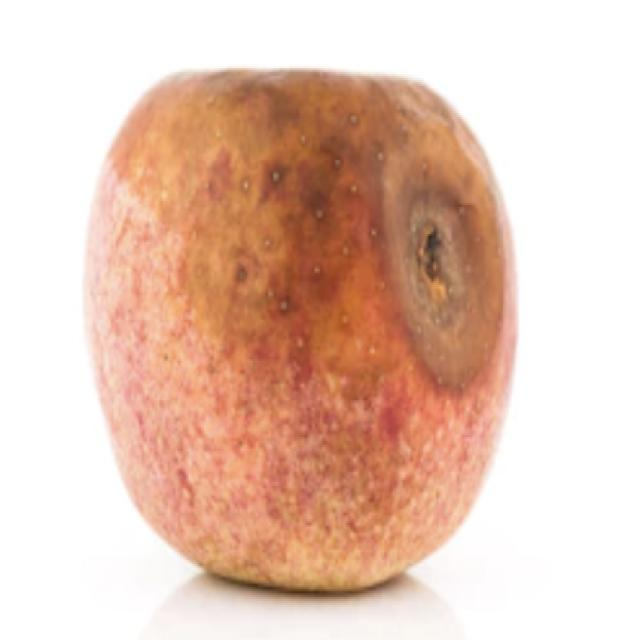Rotten: (75, 56, 503, 576)
